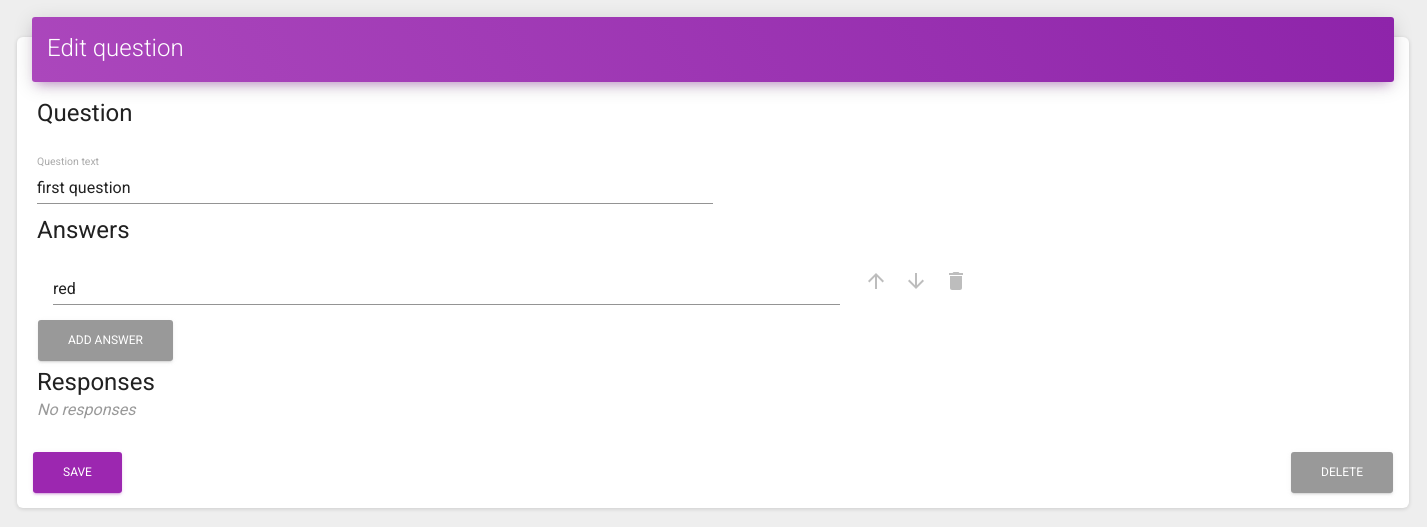
Editing questions › when the current game is Trivia › shows the updated text in the questions table after saving an edited question
Replace the text in the field labelled "Question text" with "an updated question" at (375, 188), box [37,172,713,204]
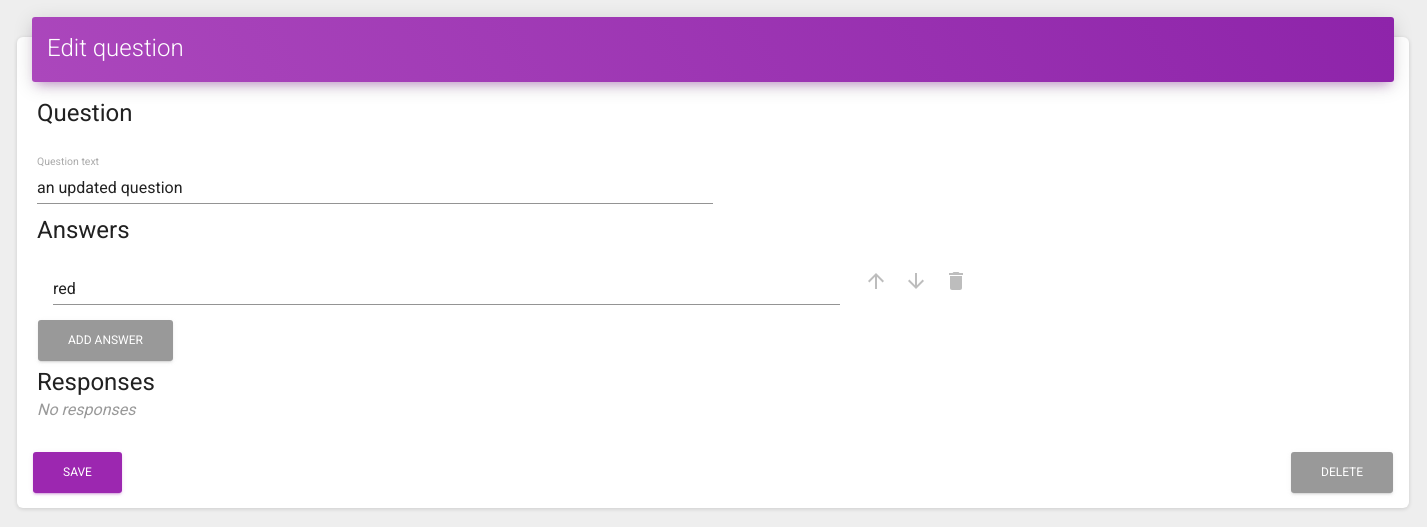
Click the button "Save".
click(77, 473)  # box [33,452,122,493]
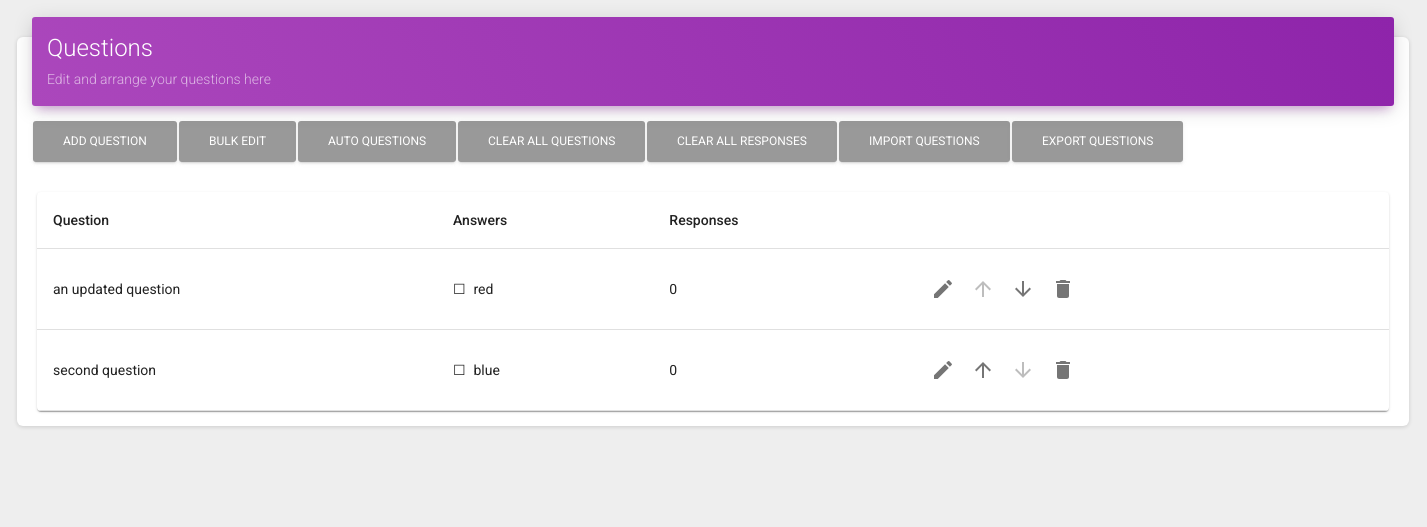
Expected: the text "first question" is not shown
Now the column heading "an updated question" is shown, box [37,249,437,330]
